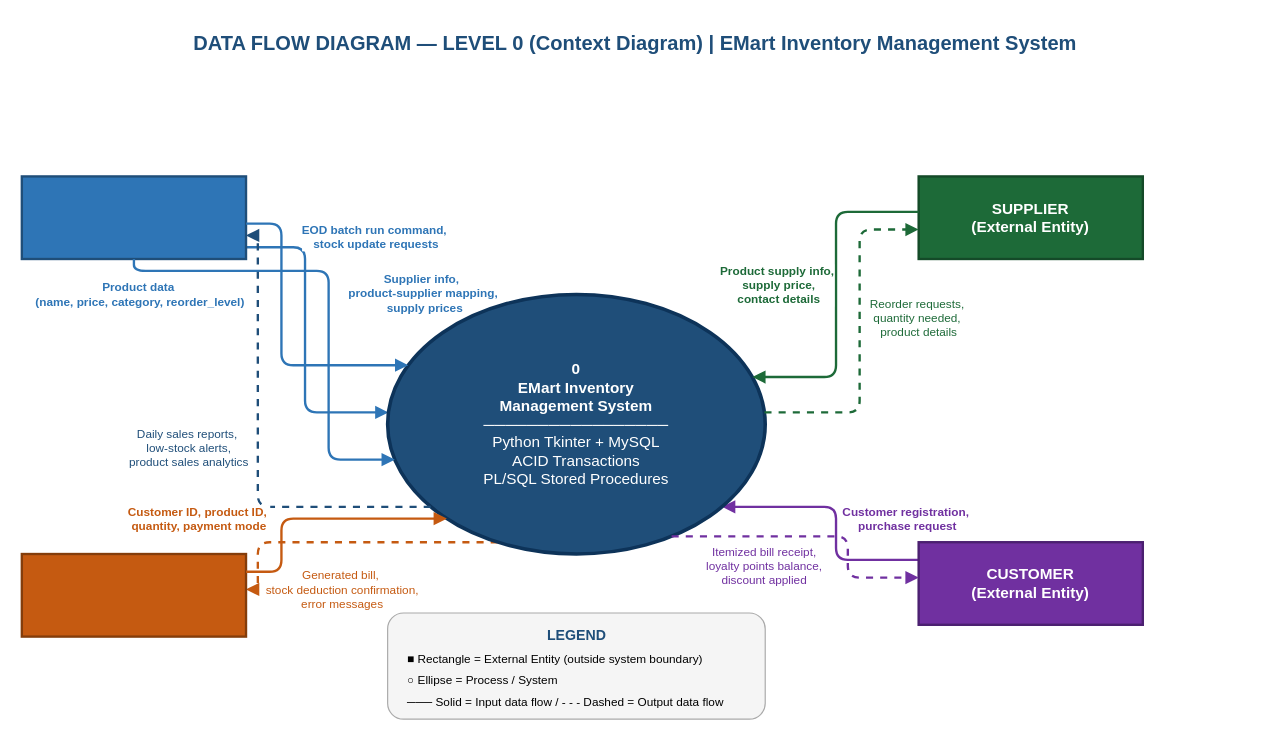
This 1269x740 diagram has some shape labels left out. The centre of each missing label's shape, as x and y in pixels:
"BILLING STAFF (External Entity)" goes at point 133,594.
"SHOP MANAGER (External Entity)" goes at point 133,217.
